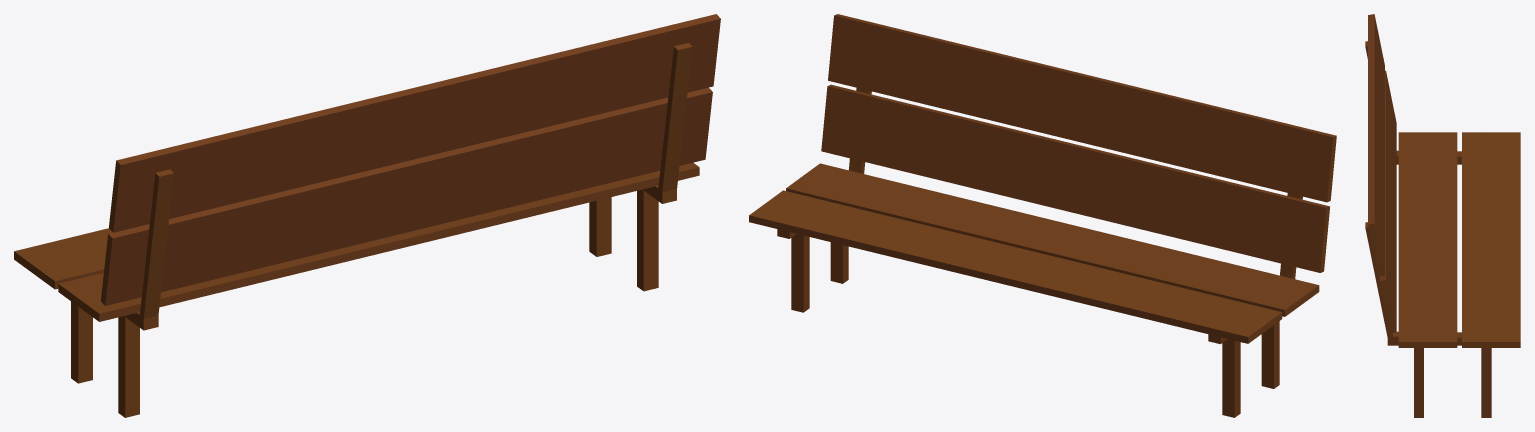
Rendered from bench.fbx.
The picture shows the model from 3 angles, left to right: view 1: azimuth 30°, elevation 25°; view 2: azimuth 150°, elevation 25°; view 3: azimuth 270°, elevation 25°; orthographic projection. The views are drawn at different scales.
Visible parts, largest first — view 1: bench.001; view 2: bench.001; view 3: bench.001.
Boxes of the visible parts, left/top/right/bottom form: bench.001: left=14, top=14, right=720, bottom=417; bench.001: left=749, top=14, right=1336, bottom=417; bench.001: left=1365, top=14, right=1520, bottom=417.
Size of the model in its own units: 52.78 by 24.08 by 16.54.
